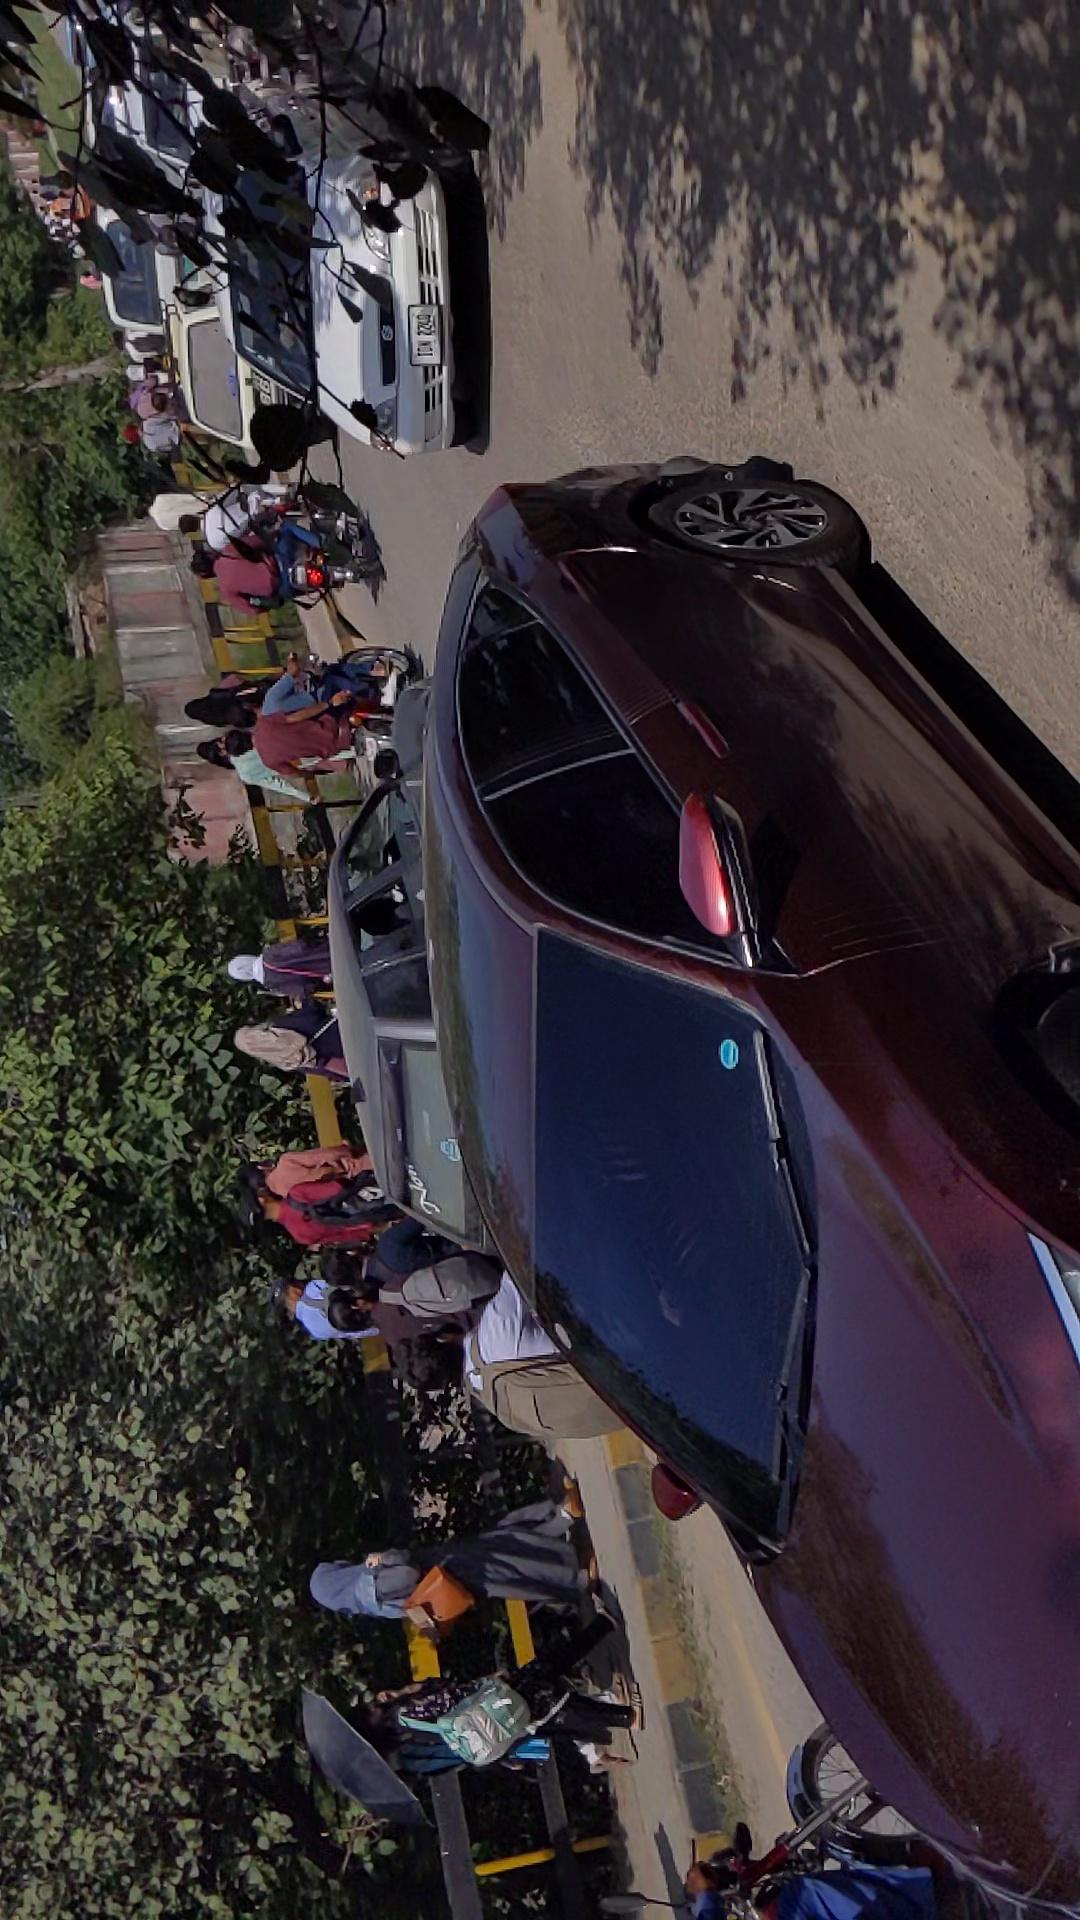windshield: (181, 901, 567, 1445)
